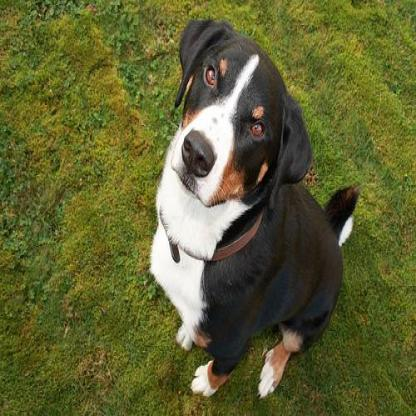Appenzeller: (146, 15, 358, 400)
